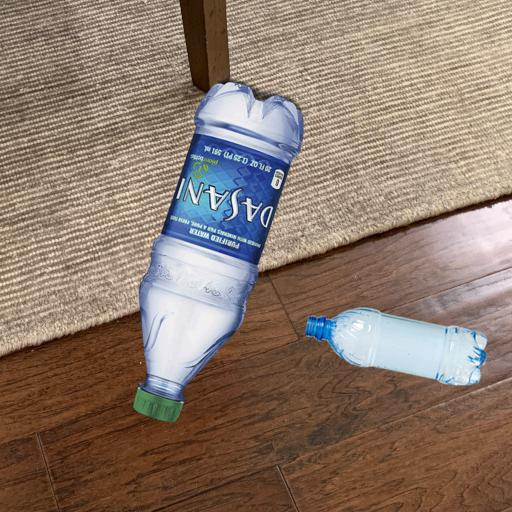plastic_bottle: (131, 81, 304, 427), (305, 305, 490, 387)
